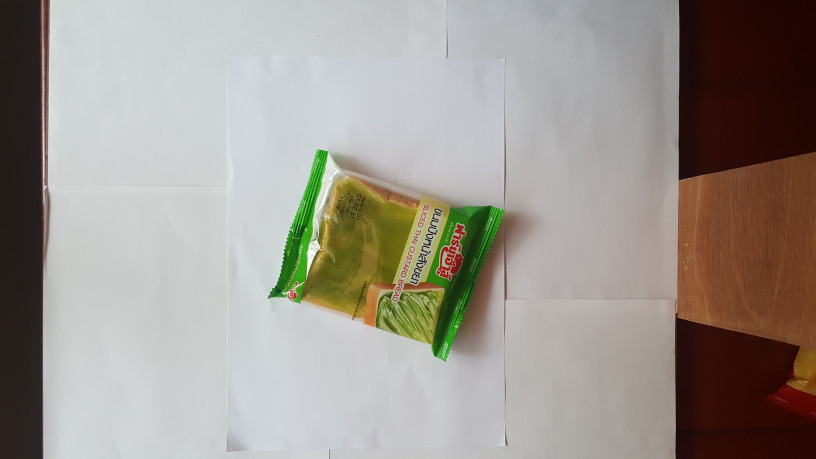farmhouse-bread-pandan: (251, 150, 506, 364)
